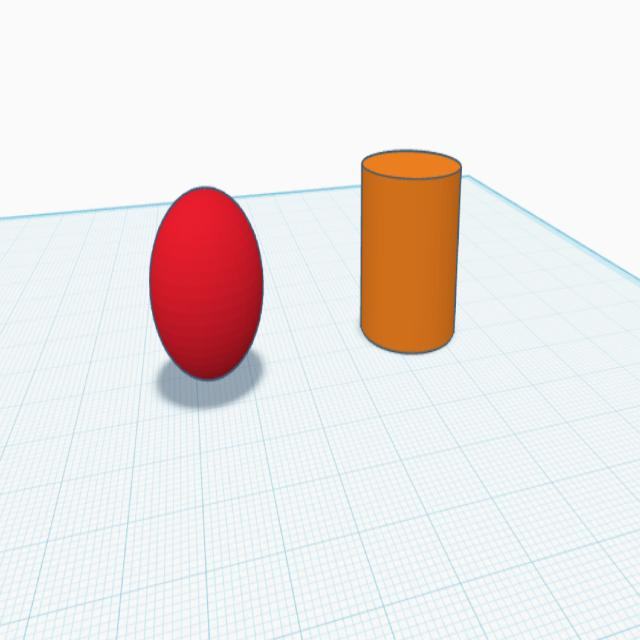sphere: (146, 180, 268, 387)
